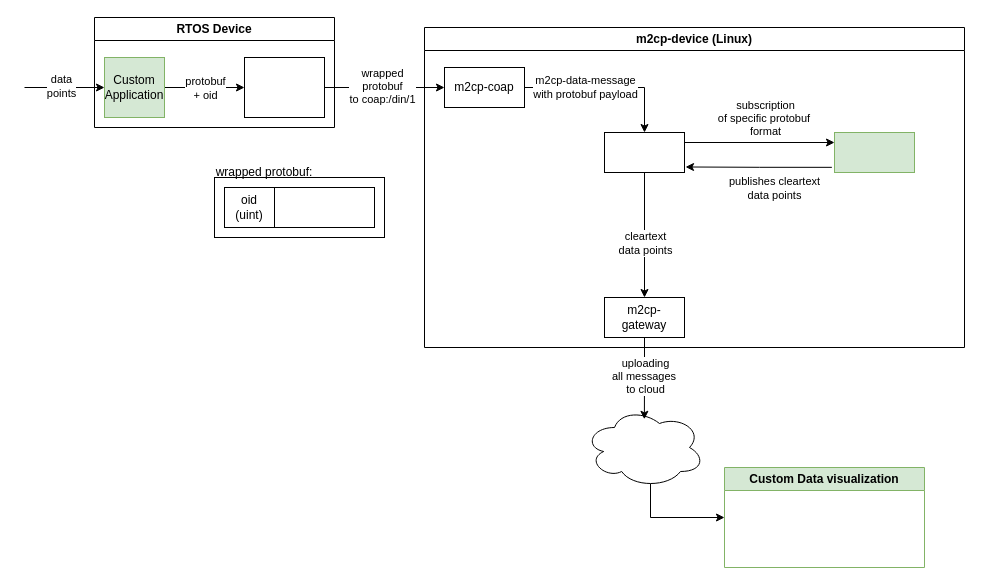
This 982x585 diagram has some shape labels left out. The shapes that lost their labels are listed below. From the top down, each one's box as (x1, y1, x2, y2) in pixels, then its label:
(244, 56, 324, 118): ML!PA wrapping and sending library
(604, 132, 684, 172): message-hub AMQP
(834, 132, 914, 172): custom protobuf parser
(274, 186, 374, 228): protobuf encoded payload (binary)
